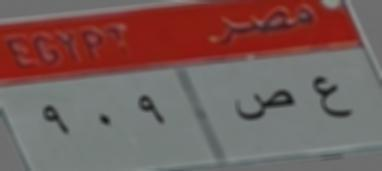0: (95, 106, 114, 130)
9: (134, 88, 170, 134), (40, 102, 73, 146)
ain: (308, 70, 355, 123)
saad: (232, 83, 298, 127)
